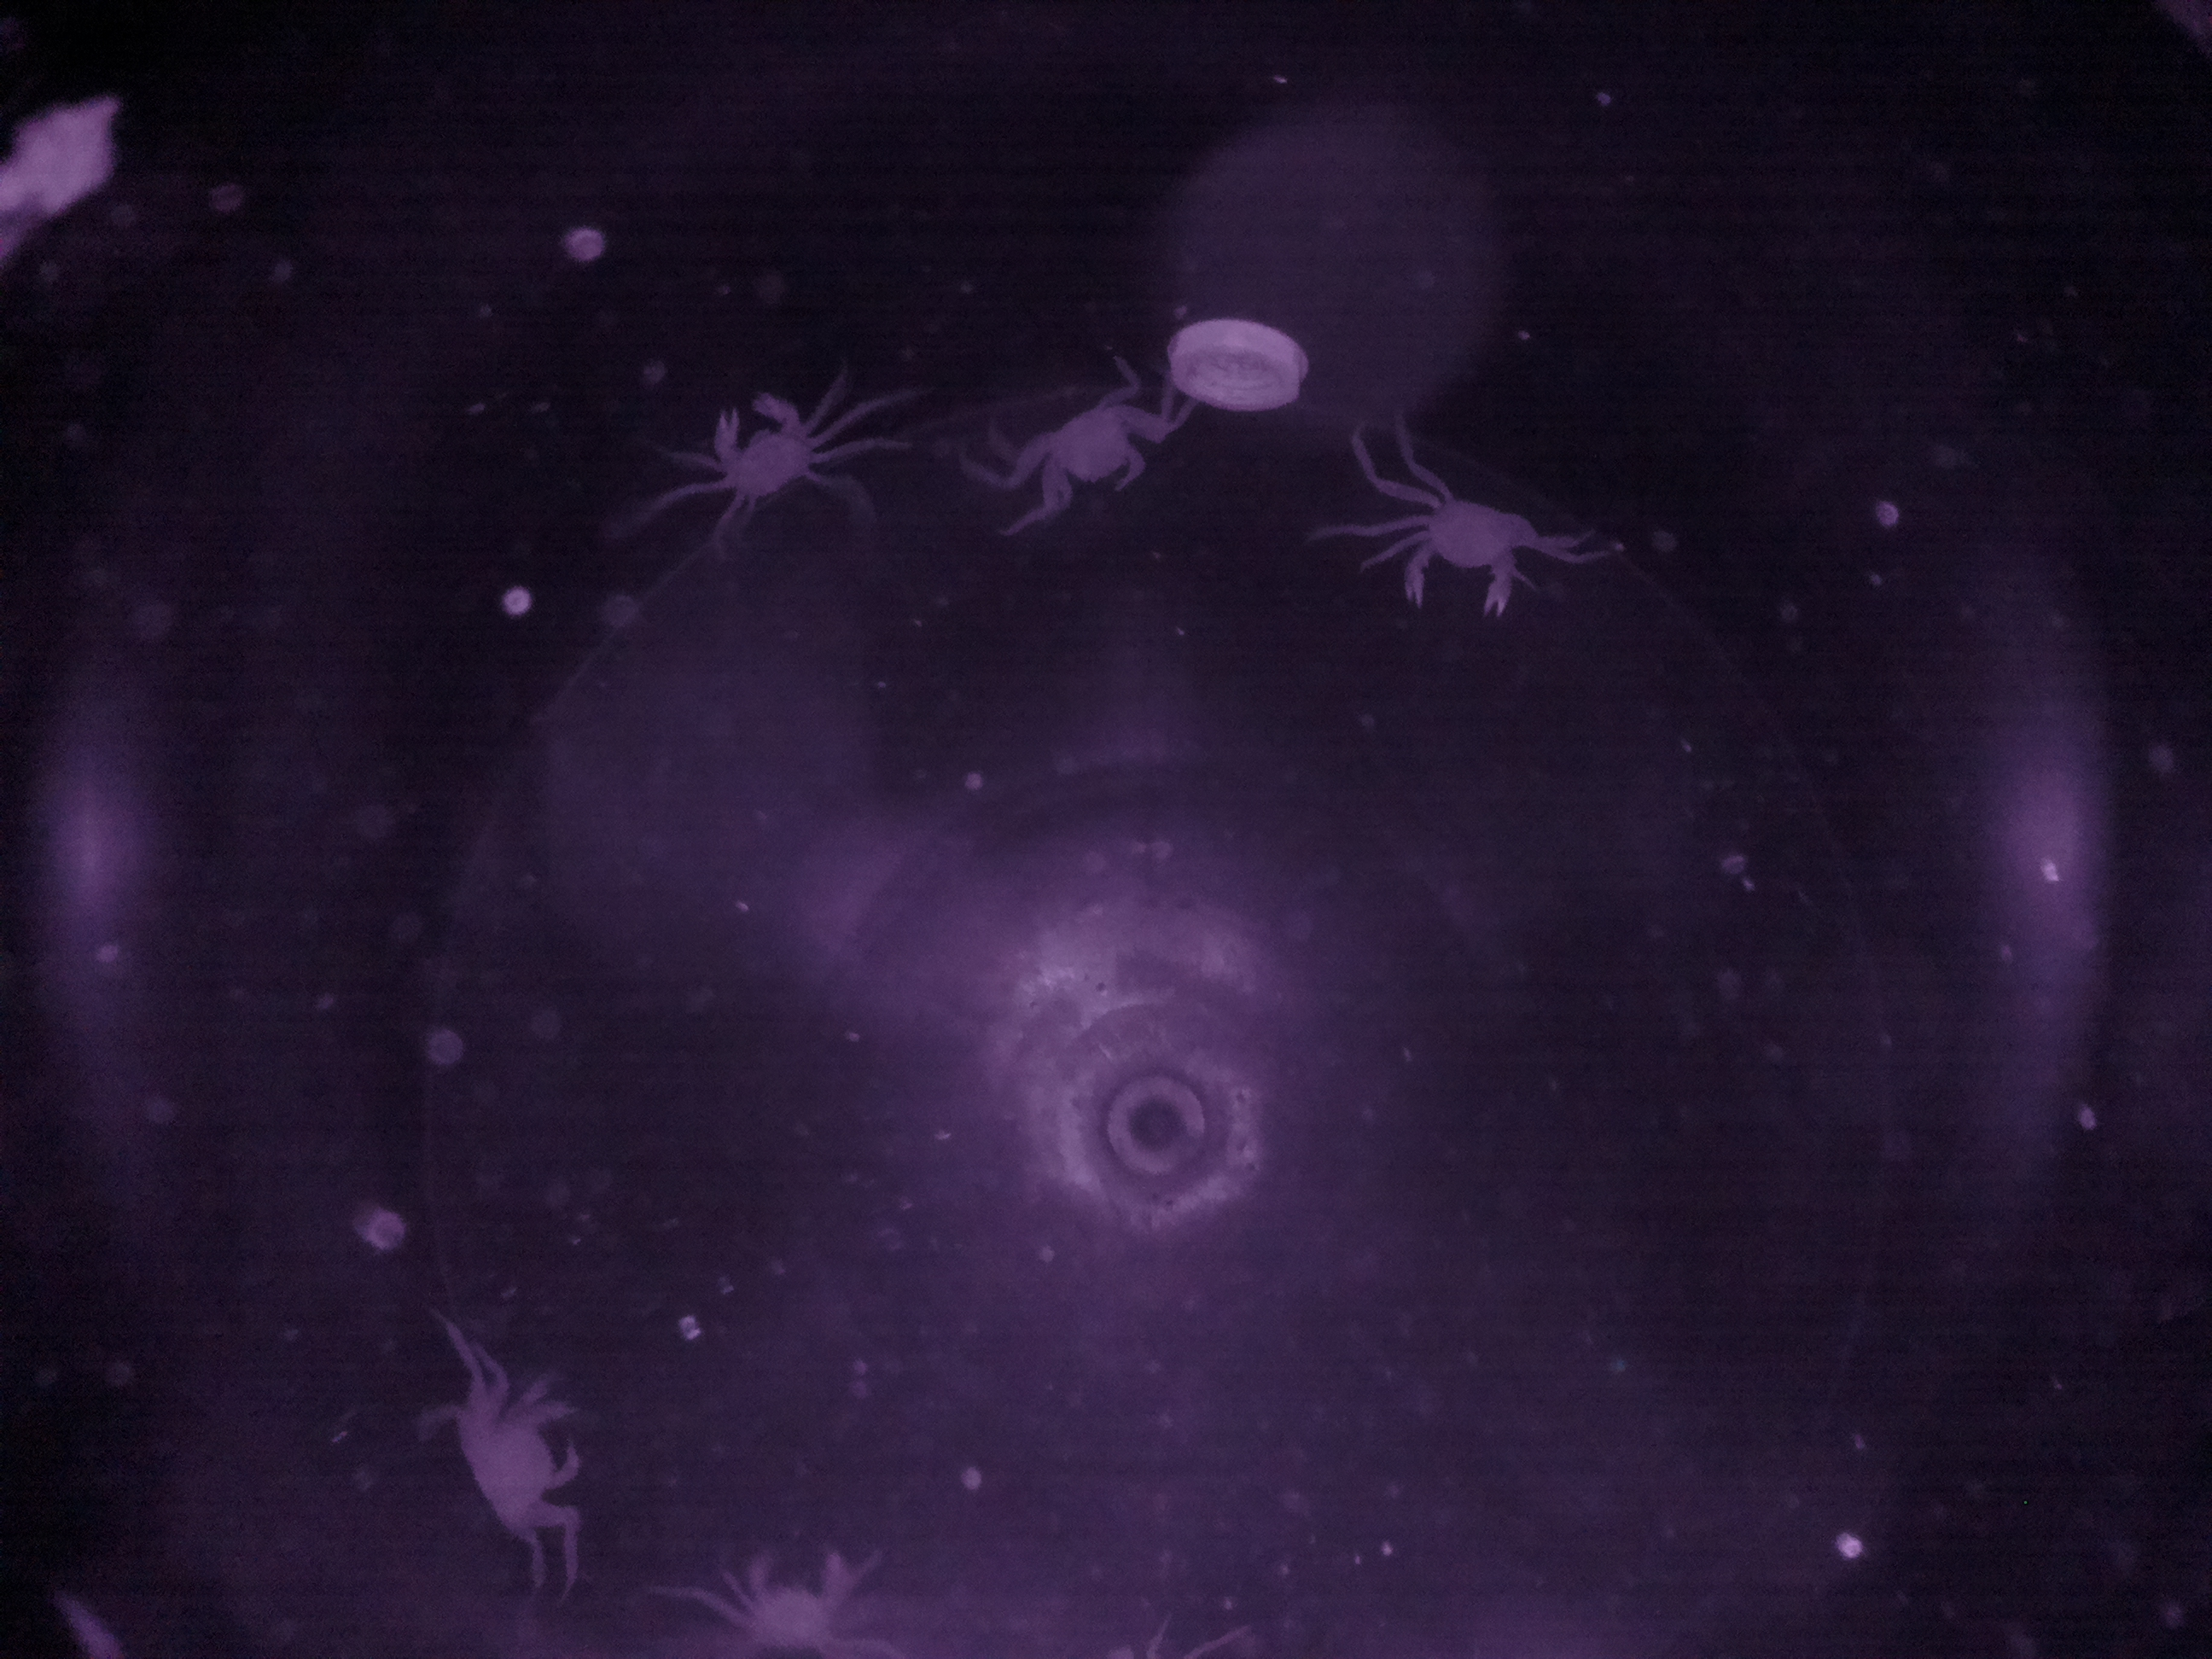Crab: (399, 1359, 599, 1556), (664, 357, 869, 533), (1348, 462, 1569, 622), (986, 376, 1172, 525)
